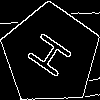H: (26, 30, 81, 85)
